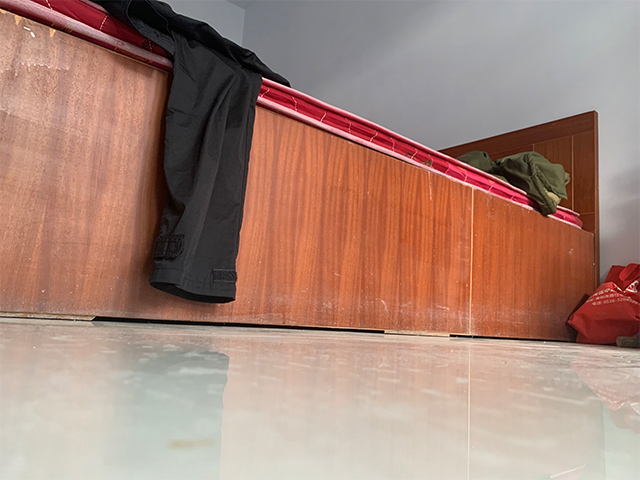bed: (1, 1, 603, 343)
